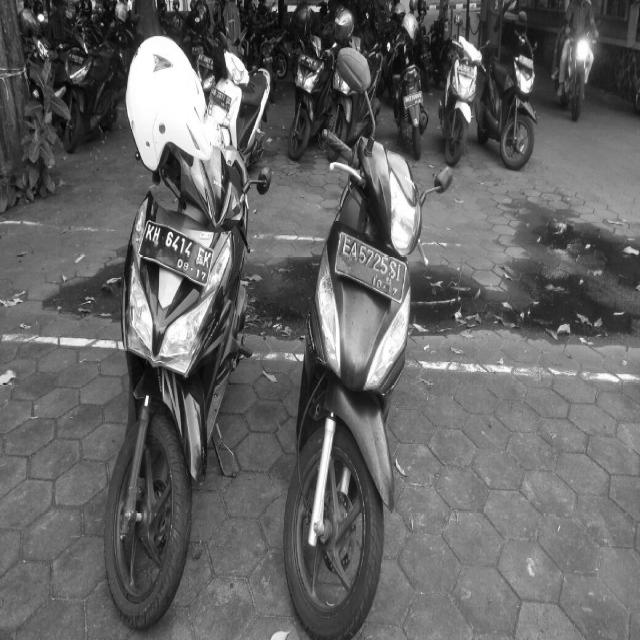license-plat: (334, 218, 413, 311)
